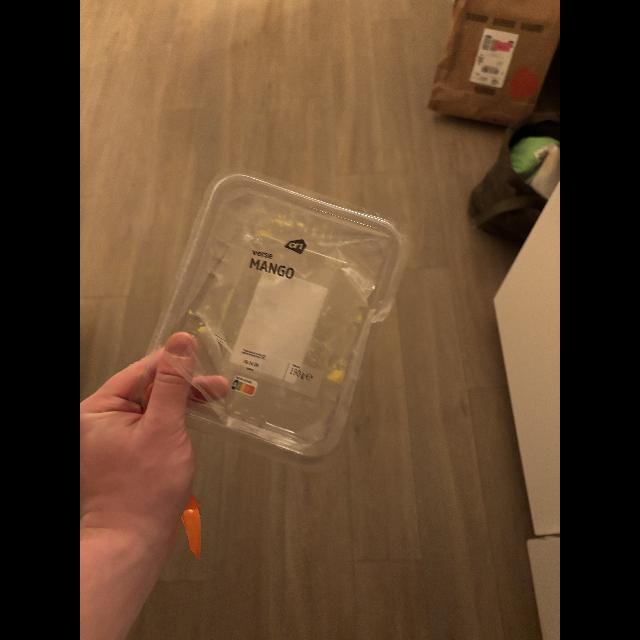Plastic: (142, 166, 424, 468)
